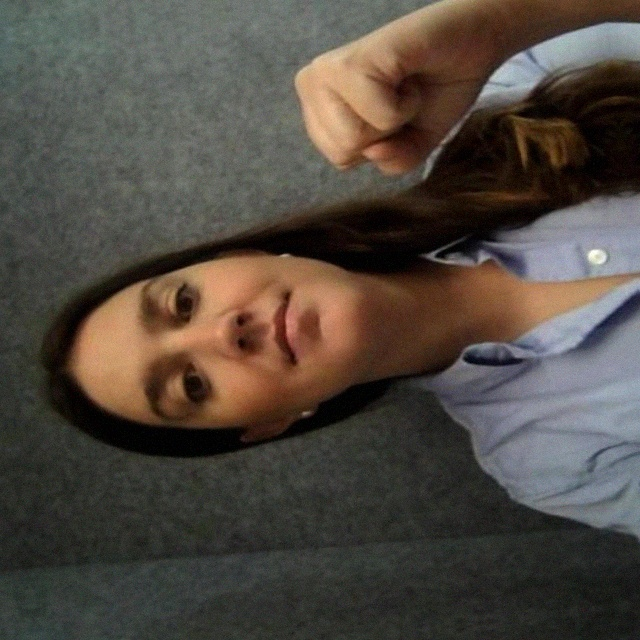Rock: (277, 4, 518, 197)
